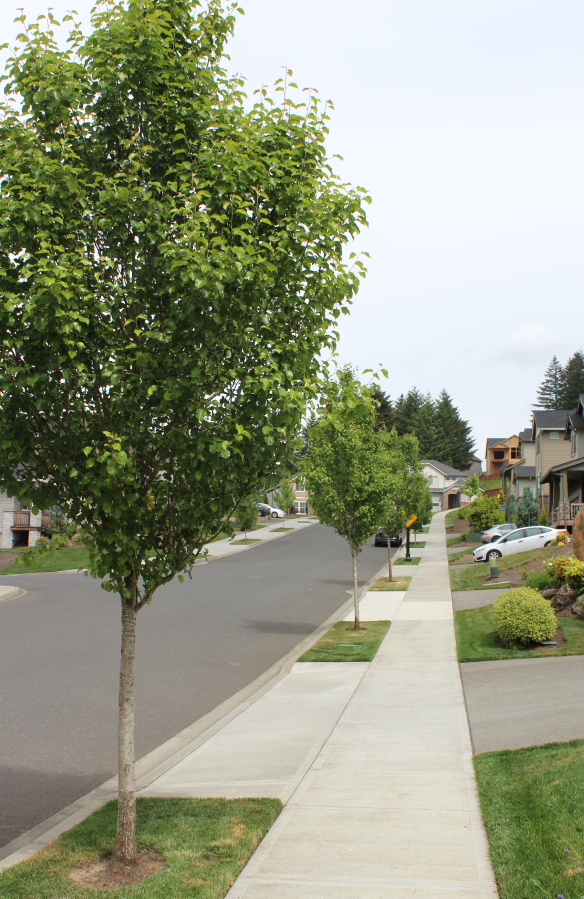tree: (1, 1, 373, 870), (306, 425, 405, 631)
